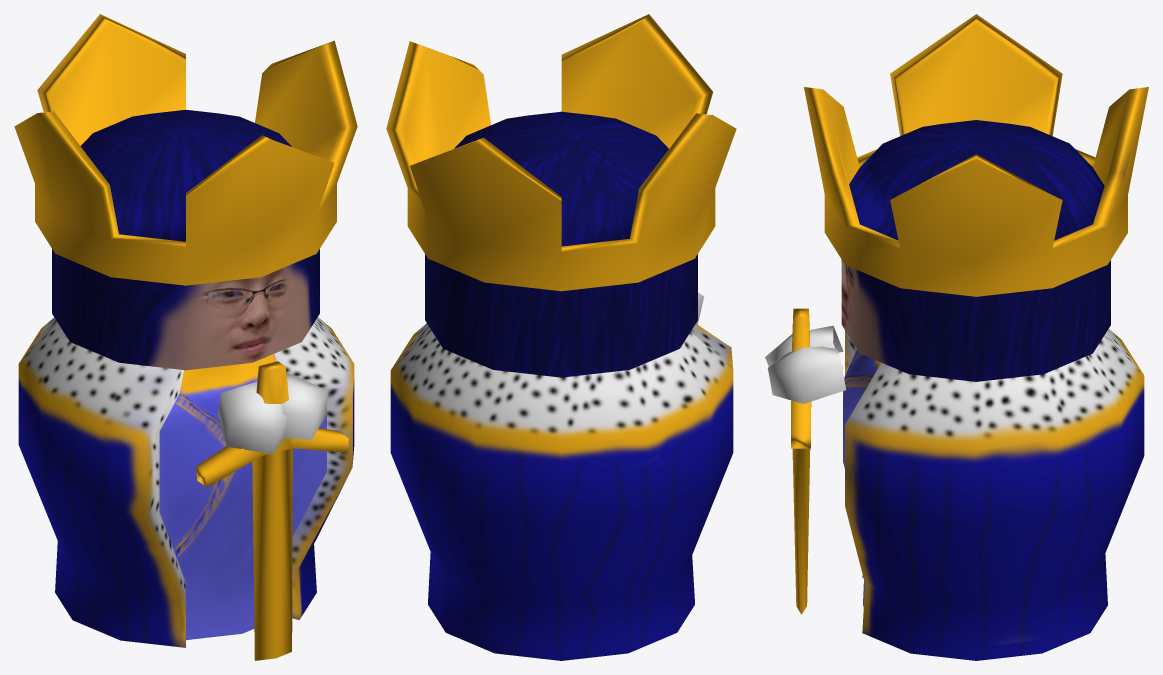
Rendered from king_hong.fbx.
3 views of the same model, side by side, from view 1: azimuth 30°, elevation 25°; view 2: azimuth 150°, elevation 25°; view 3: azimuth 270°, elevation 25° (orthographic). The views are drawn at different scales.
Visible parts, largest first — view 1: polySurface27; view 2: polySurface27; view 3: polySurface27.
Part boxes in pixels (bbox=[...]): polySurface27: bbox=[14, 14, 357, 660]; polySurface27: bbox=[386, 14, 736, 660]; polySurface27: bbox=[765, 14, 1148, 660].
Bounding box in the file's own units: 120 × 198 × 133.
1 material, 1 textured.
